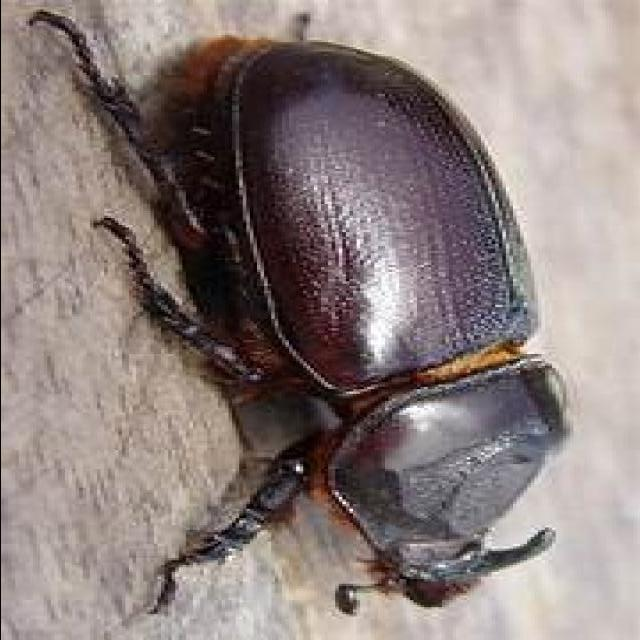Rhino-beetle: (61, 15, 576, 610)
